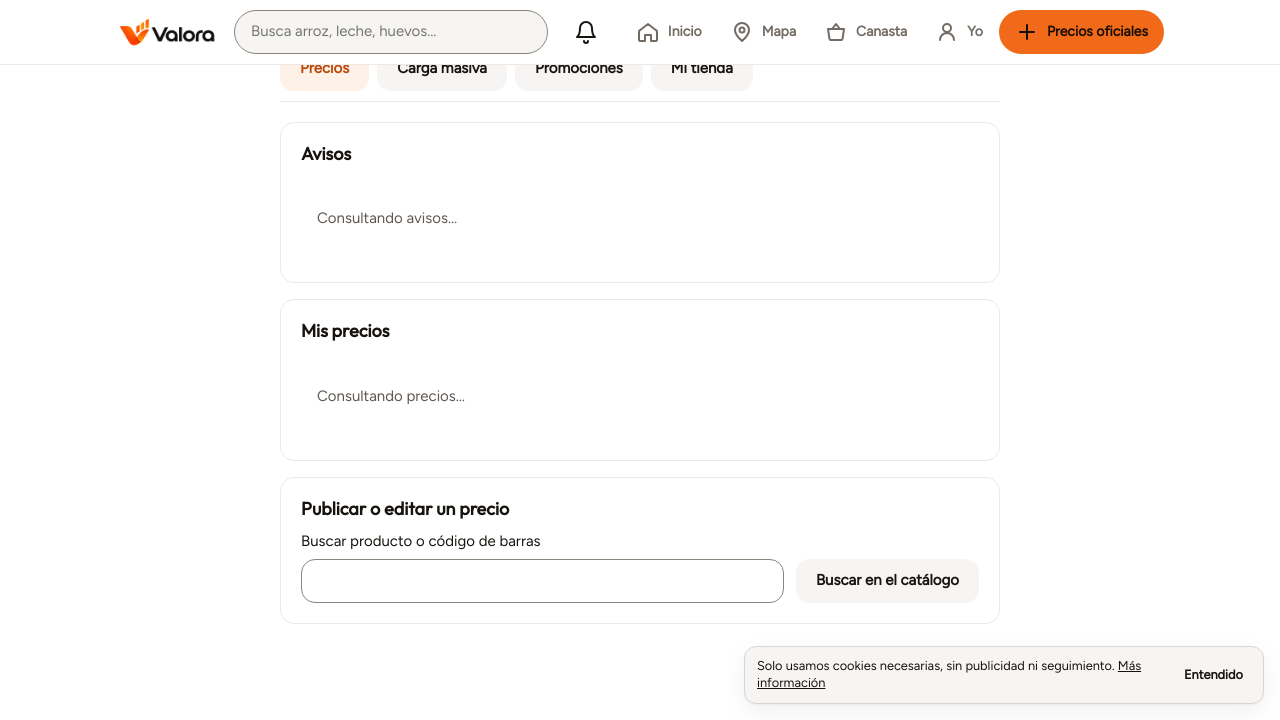
it: panel de precios oficiales (#166) › al borrar lo escrito, las sugerencias desaparecen
(page scrolled)
Type "Arroz" into the search field labelled "Buscar producto o código de barras". click: (542, 581)
box: x1=301 y1=559 x2=784 y2=603
(page scrolled)
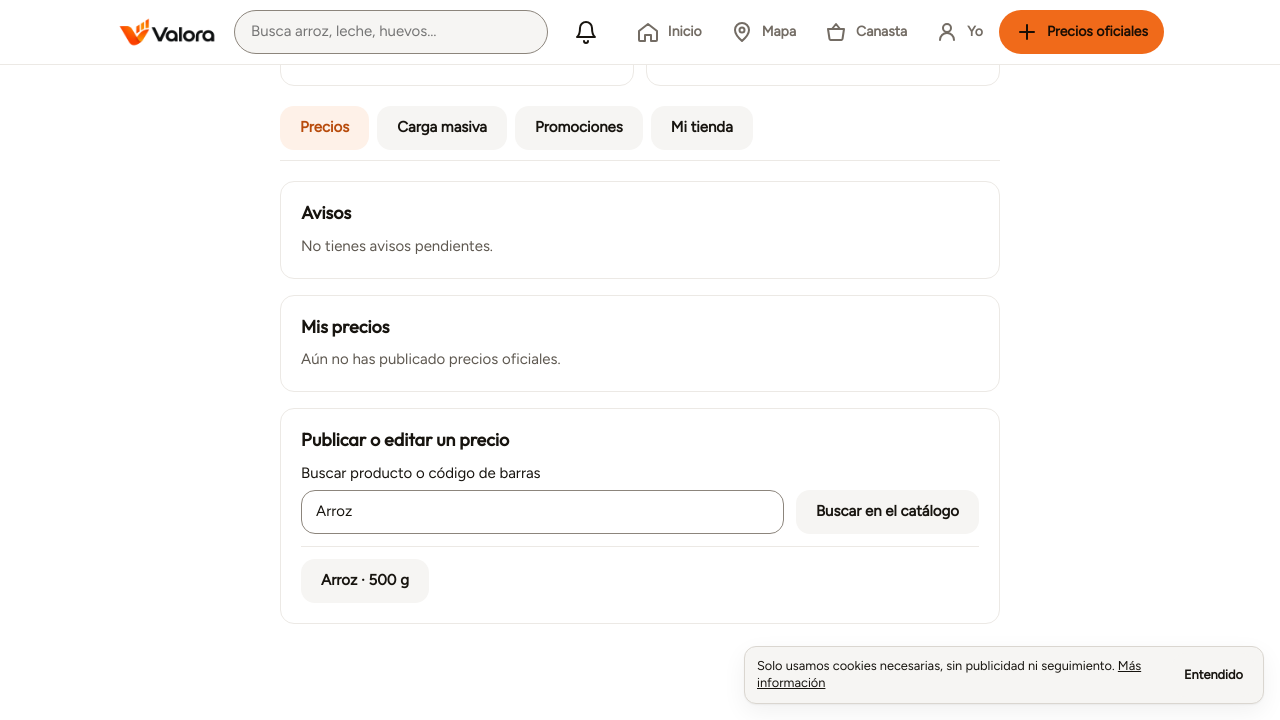
Result: the button "Arroz · 500 g" is shown at x1=301 y1=559 x2=429 y2=603
Clear the search field labelled "Buscar producto o código de barras". click: (542, 512)
box: x1=301 y1=490 x2=784 y2=534
(page scrolled)
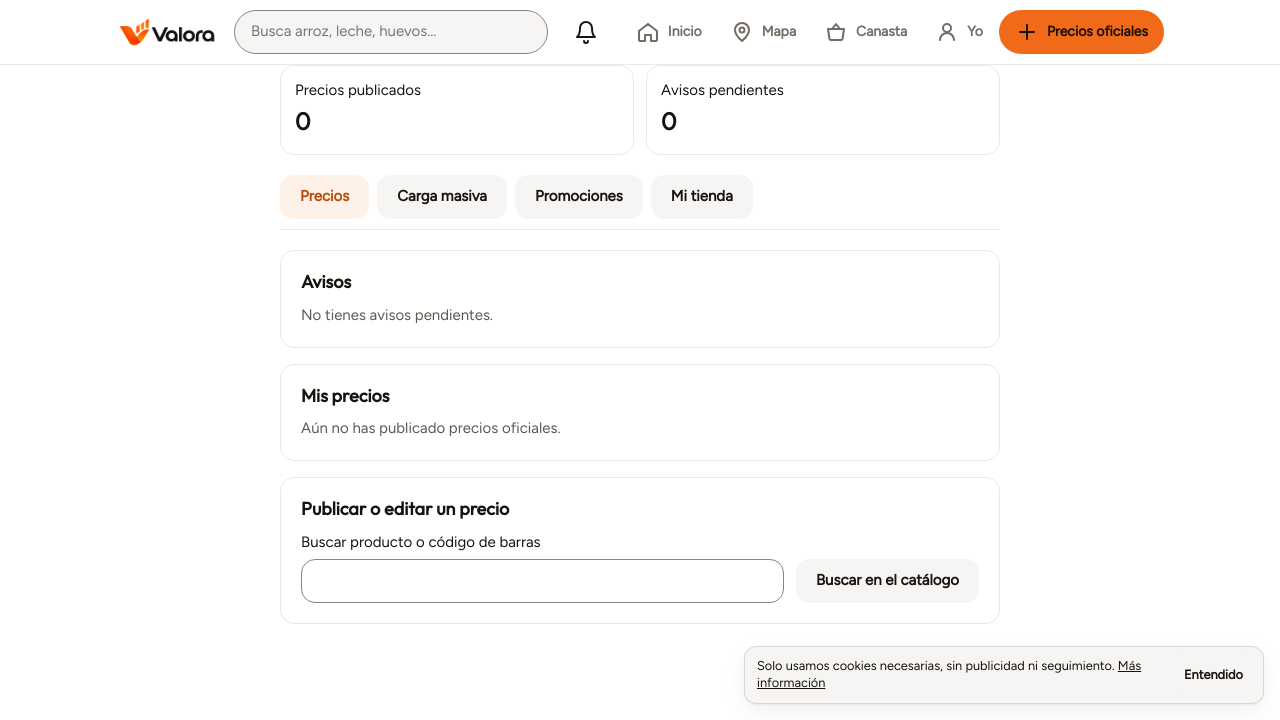
Result: the button "Arroz · 500 g" is gone
